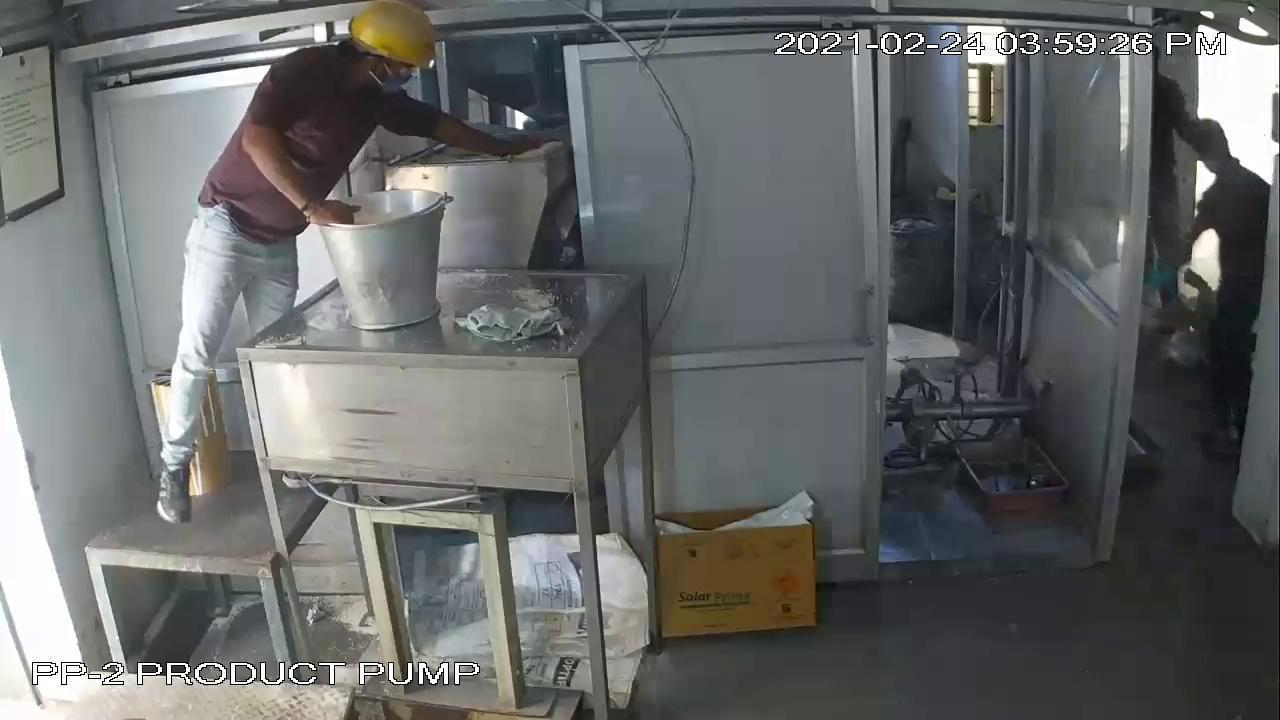helmet: (343, 1, 445, 72)
